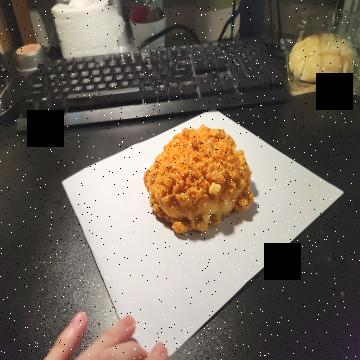soboru_bread: (142, 128, 253, 234)
